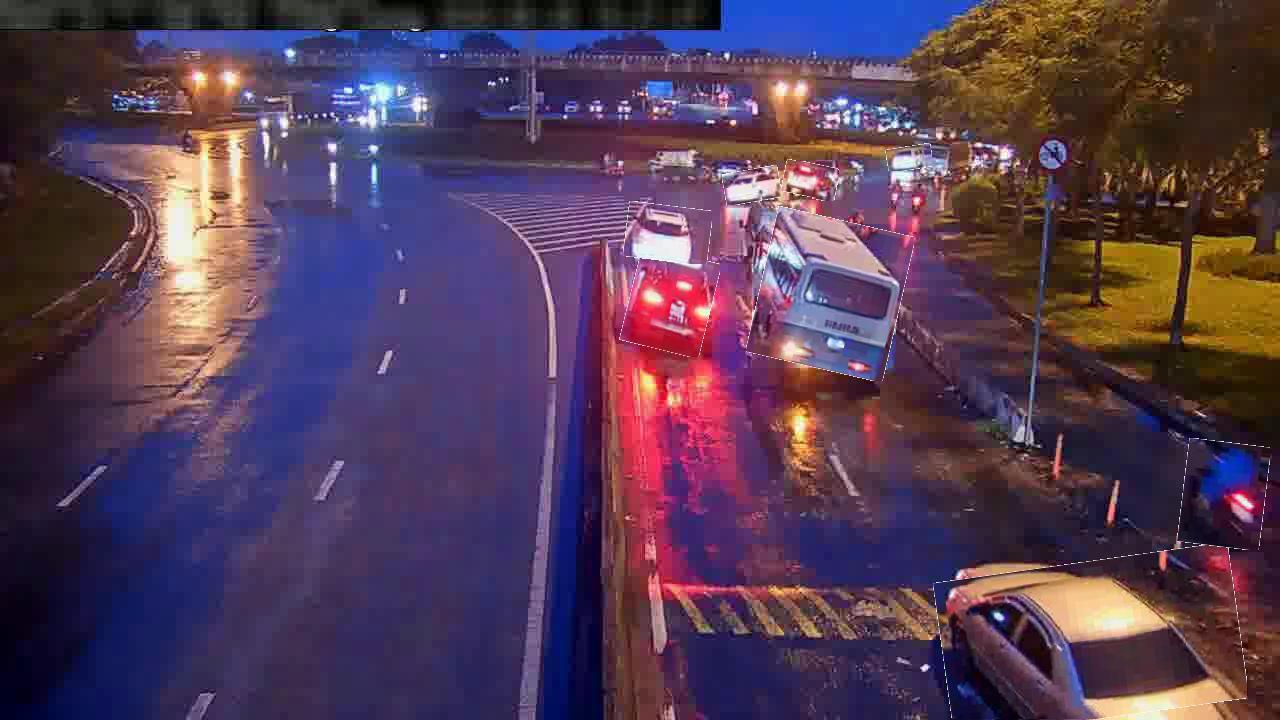14: (754, 213, 908, 376)
container: (937, 552, 1244, 719), (625, 249, 716, 354), (624, 204, 712, 263), (783, 162, 839, 200), (723, 168, 781, 204), (886, 145, 933, 171)
motorbike: (1180, 441, 1268, 549)
